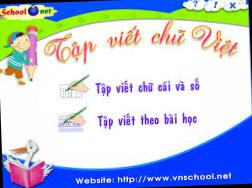text: (42, 16, 240, 66), (74, 171, 232, 186), (95, 76, 201, 98), (96, 109, 198, 130), (0, 4, 52, 18)
